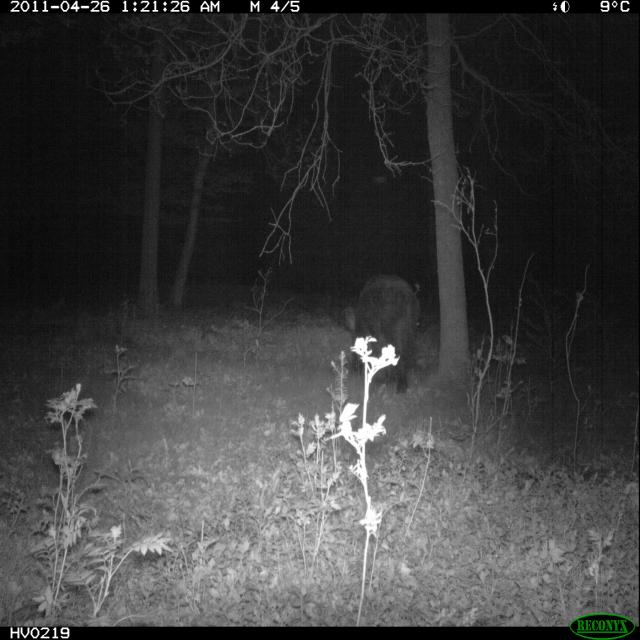boar: (326, 256, 433, 401)
